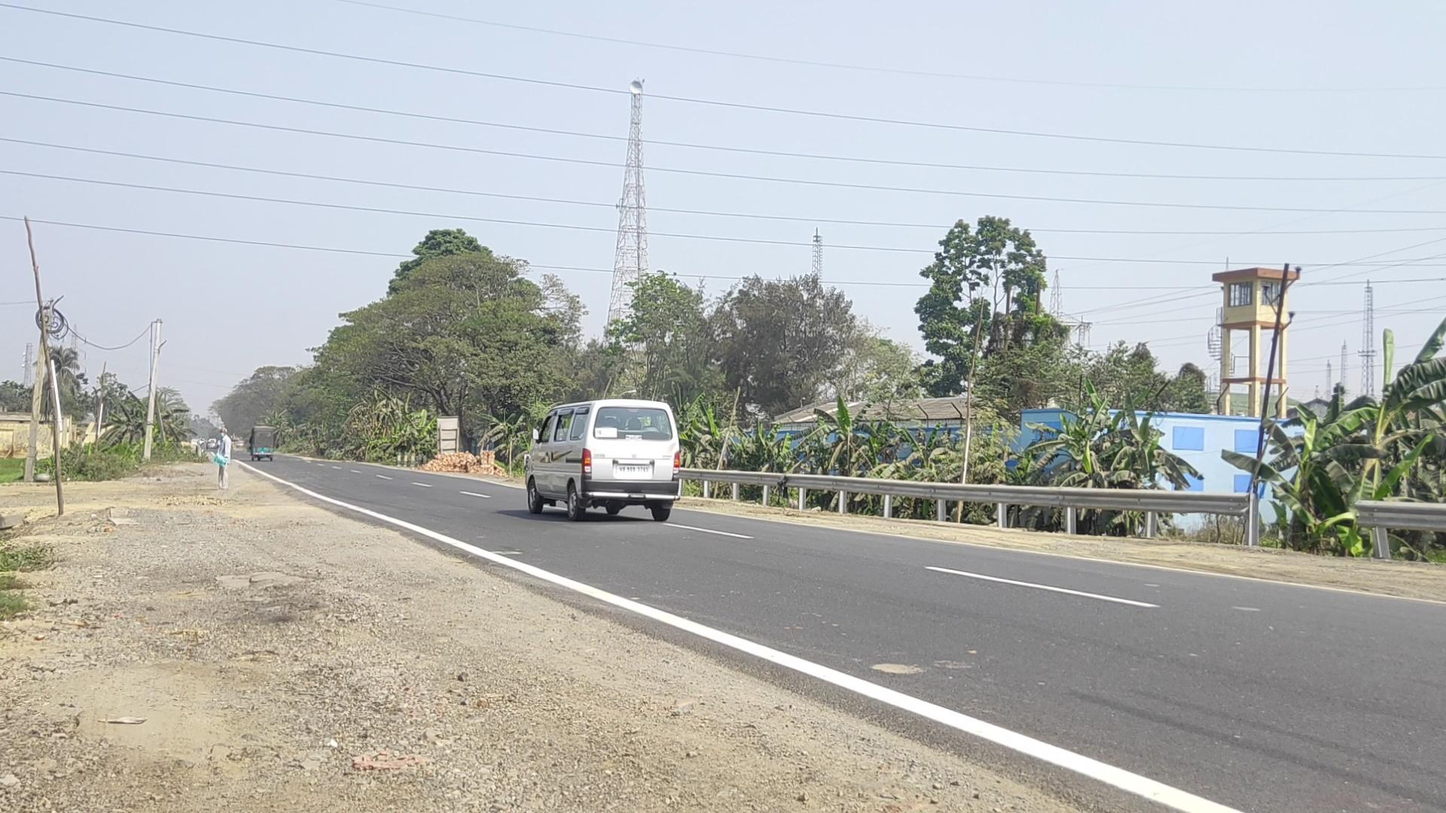Auto: (249, 425, 275, 461)
van: (523, 398, 681, 522)
